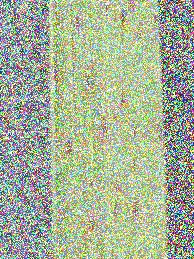Bacterial_Leaf_Blight: (76, 62, 96, 93), (62, 133, 77, 162), (70, 11, 86, 36), (82, 211, 98, 234), (116, 90, 133, 110), (130, 196, 142, 223), (154, 118, 167, 142), (99, 112, 110, 140), (111, 176, 123, 201), (134, 22, 146, 45), (52, 56, 60, 87), (119, 7, 131, 26), (100, 1, 111, 20), (151, 5, 159, 28), (87, 175, 97, 191), (130, 155, 138, 174), (131, 119, 139, 136), (112, 110, 120, 123), (127, 1, 137, 11)
